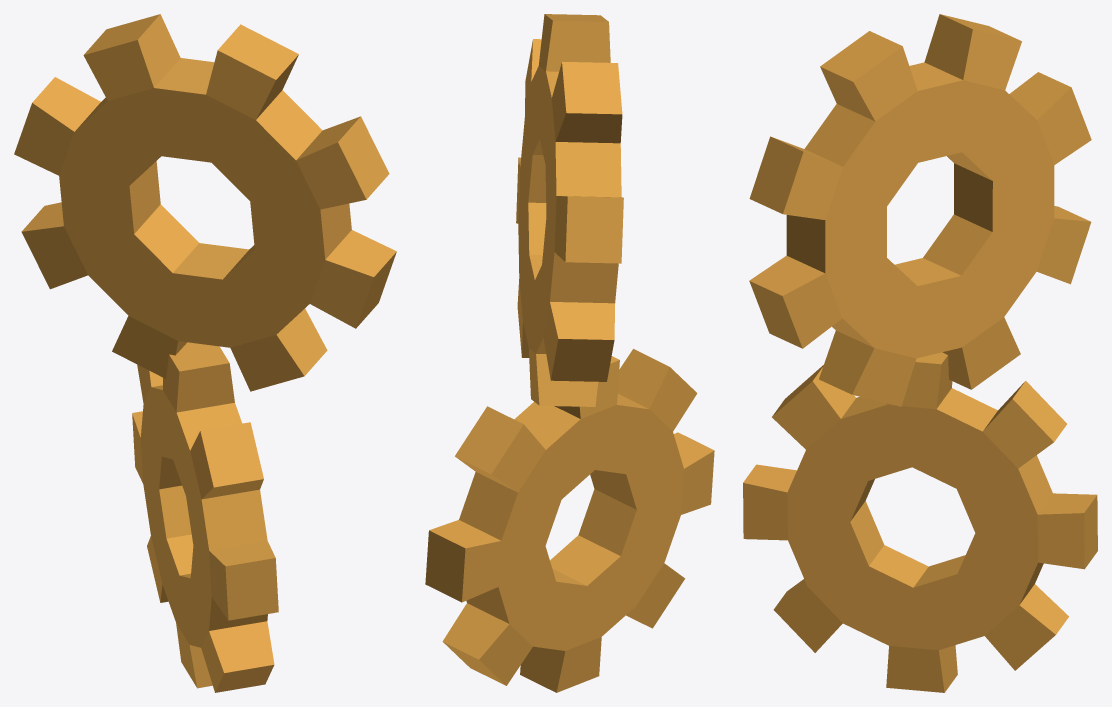
The model's file is 064_Gear.fbx.
The picture shows the model from 3 angles, left to right: view 1: azimuth 30°, elevation 25°; view 2: azimuth 150°, elevation 25°; view 3: azimuth 270°, elevation 25°; orthographic projection.
Parts seen in each view (by area): view 1: Gears; view 2: Gears; view 3: Gears.
Boxes of the visible parts, bbox=[...] form: Gears: bbox=[14, 14, 396, 692]; Gears: bbox=[425, 14, 714, 692]; Gears: bbox=[743, 14, 1097, 692].
Bounding box in the file's own units: 39.43 × 101 × 50.3.
